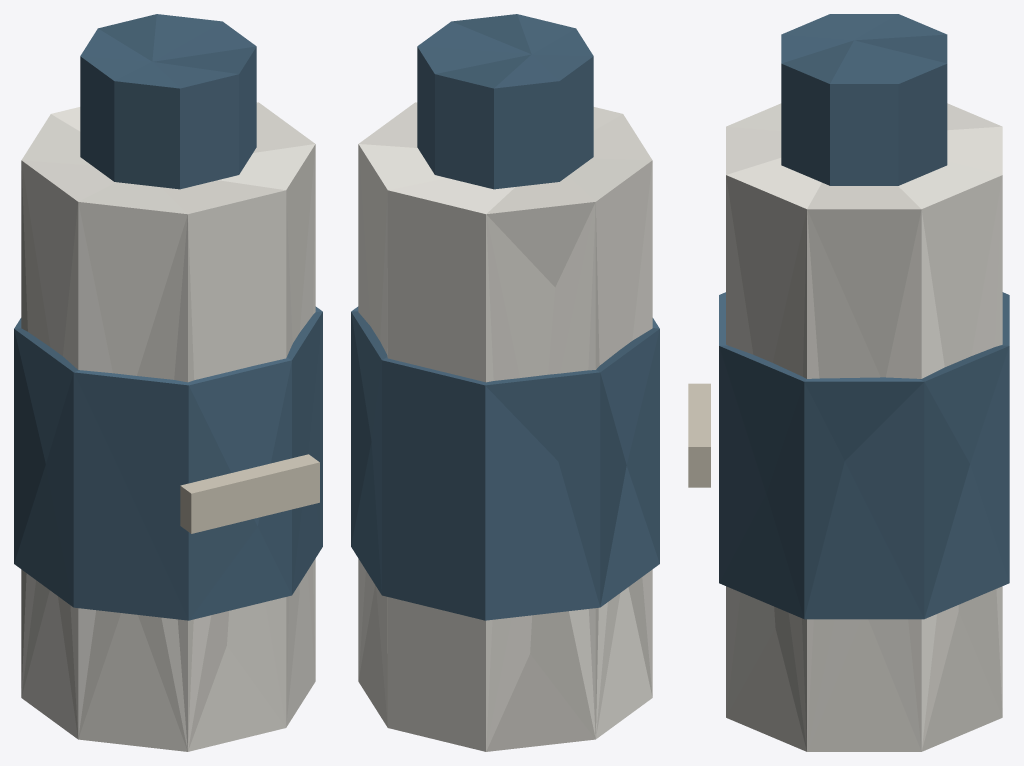
Rendered from soap_dezinfitsiruyuschee_idle.glb.
3 views of the same model, side by side, from view 1: azimuth 30°, elevation 25°; view 2: azimuth 150°, elevation 25°; view 3: azimuth 270°, elevation 25° (orthographic).
Visible parts, largest first — view 1: soap_dezinfitsiruyuschee_idle; view 2: soap_dezinfitsiruyuschee_idle; view 3: soap_dezinfitsiruyuschee_idle.
Part boxes in pixels (x1,y1,x2,y2): soap_dezinfitsiruyuschee_idle: (14, 14, 322, 751); soap_dezinfitsiruyuschee_idle: (351, 14, 659, 751); soap_dezinfitsiruyuschee_idle: (688, 14, 1009, 751).
Size of the model in its own units: 0.0388 by 0.095 by 0.0429.
1 material, 1 textured.
